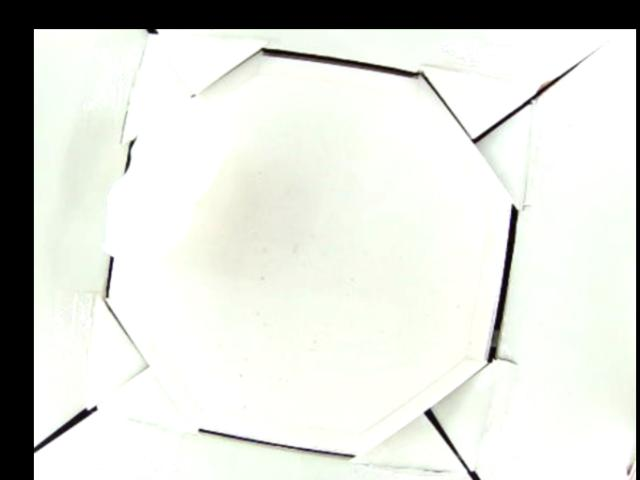Bottle: (98, 93, 245, 271)
